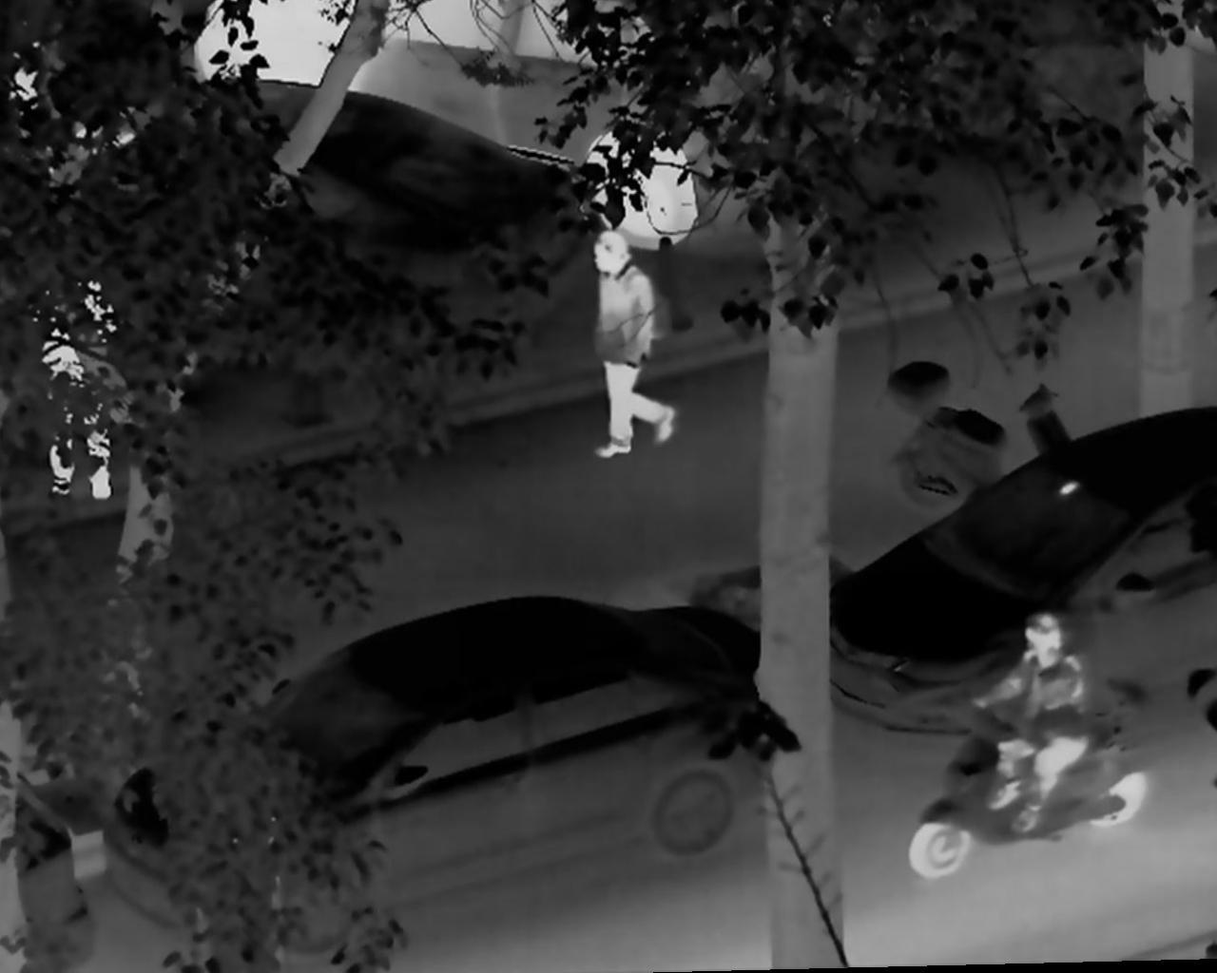person: (968, 603, 1085, 840), (561, 231, 675, 468), (24, 241, 120, 506)
